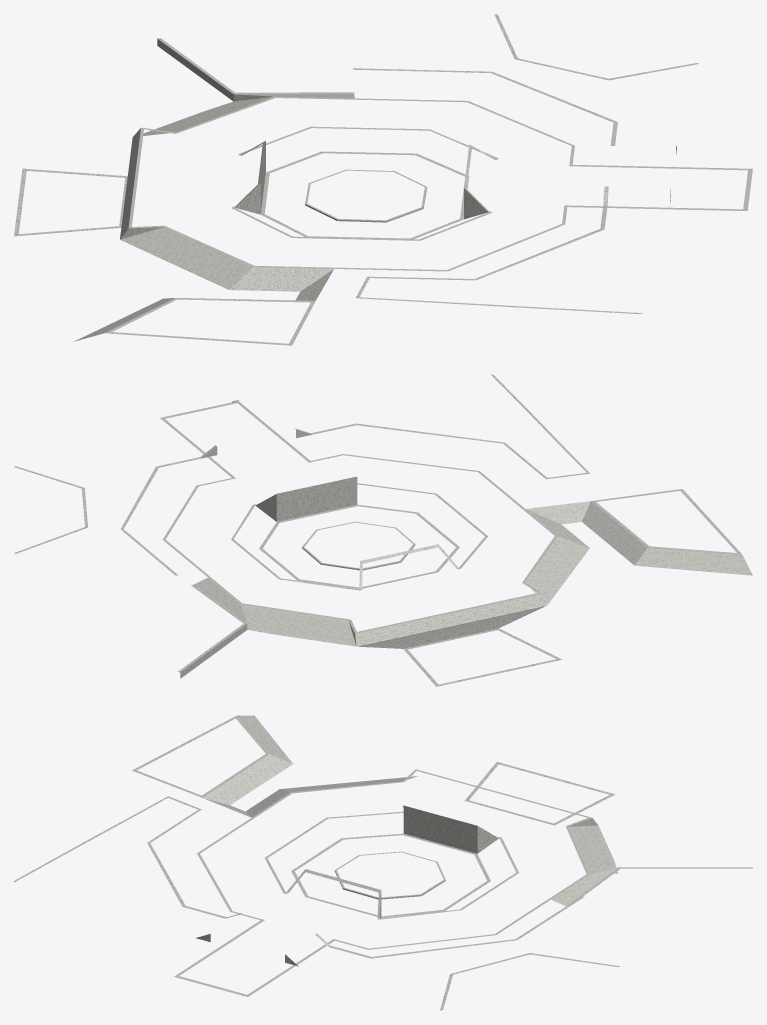
Rendered from kd_stage_1364a3_13_3_bounded.glb.
3 renders of one model, top to bottom at view 1: azimuth 30°, elevation 25°; view 2: azimuth 150°, elevation 25°; view 3: azimuth 270°, elevation 25°, orthographic. The views are drawn at different scales.
Parts seen in each view (by area): view 1: kd_stage_1364a3_13_3_bounded; view 2: kd_stage_1364a3_13_3_bounded; view 3: kd_stage_1364a3_13_3_bounded.
Part boxes in pixels (bbox=[...]): kd_stage_1364a3_13_3_bounded: bbox=[14, 14, 752, 345]; kd_stage_1364a3_13_3_bounded: bbox=[14, 374, 752, 686]; kd_stage_1364a3_13_3_bounded: bbox=[14, 715, 752, 1010].
Bounding box in the file's own units: 42.99 × 2.61 × 42.63.
1 material, 1 textured.
